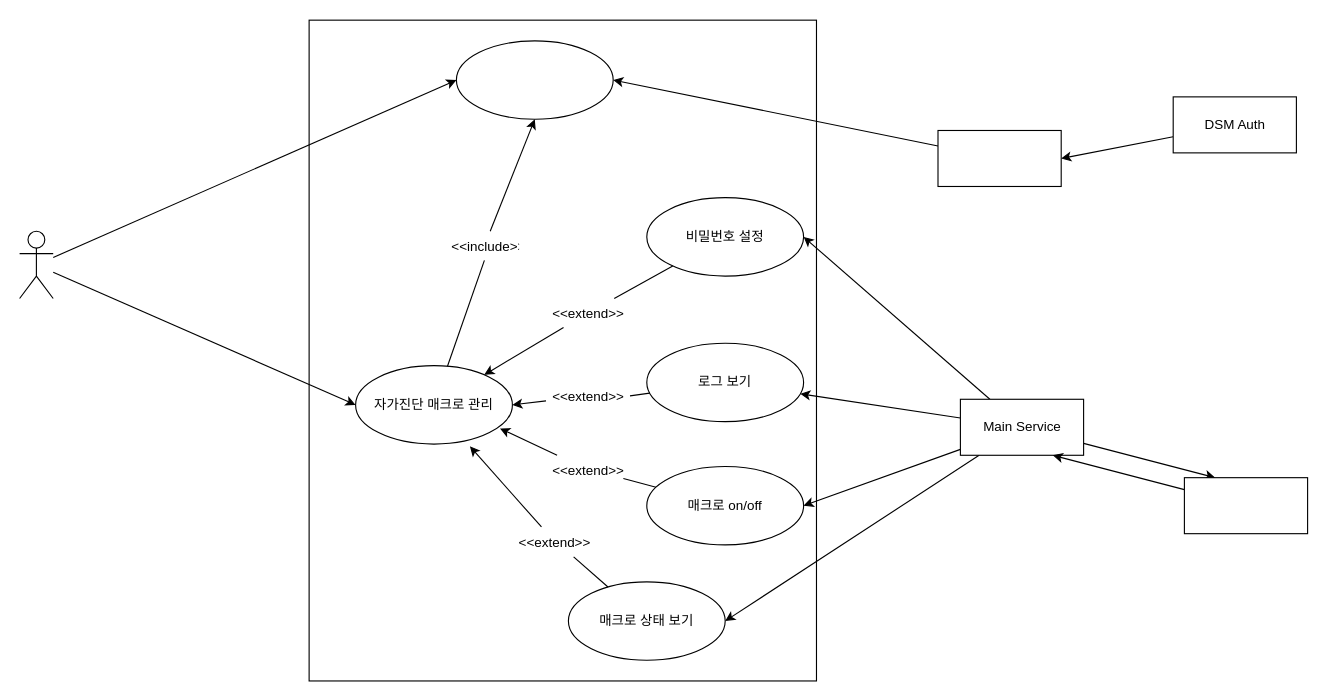
The diagram is 1327 pixels wide and 700 high, and some of its shapes have lost their labels. Each missing label, with the centre of its shape:
Auth Service: point (999, 157)
Macro Service: point (1245, 505)
로그인/회원가입: point (534, 79)
학생: point (35, 264)
